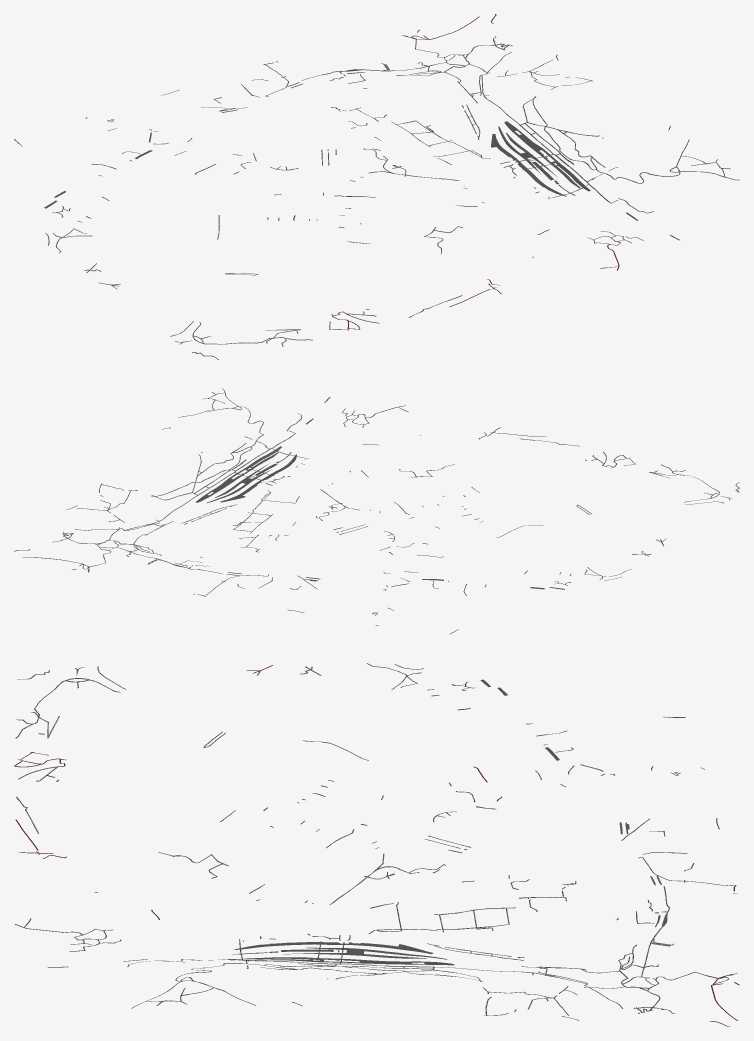
Rendered from map_10.osm_areas_footway.fbx.
The picture shows the model from 3 angles, top to bottom: view 1: azimuth 30°, elevation 25°; view 2: azimuth 150°, elevation 25°; view 3: azimuth 270°, elevation 25°; orthographic projection. The views are drawn at different scales.
Visible parts, largest first — view 1: map_10.osm_paths_footway, map_10.osm_areas_footway; view 2: map_10.osm_paths_footway, map_10.osm_areas_footway; view 3: map_10.osm_paths_footway, map_10.osm_areas_footway.
Boxes of the visible parts, x1,y1,x2,y2 form: map_10.osm_paths_footway: [14, 29, 739, 359]; map_10.osm_areas_footway: [44, 69, 679, 240]; map_10.osm_paths_footway: [52, 388, 739, 634]; map_10.osm_areas_footway: [172, 397, 564, 589]; map_10.osm_paths_footway: [14, 663, 739, 1020]; map_10.osm_areas_footway: [47, 679, 667, 967].
Size of the model in its own units: 142805 by 5148 by 125750.
